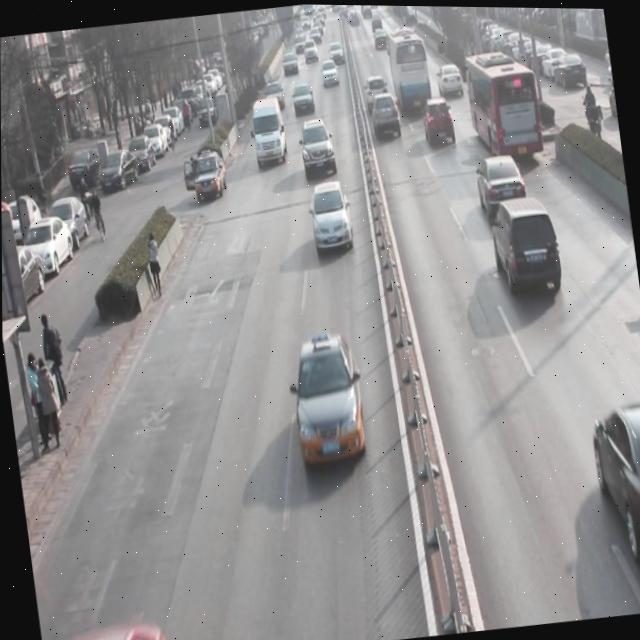car: (286, 331, 372, 475), (584, 383, 640, 577), (487, 189, 566, 304), (472, 148, 530, 223), (303, 174, 356, 256), (297, 115, 339, 180), (421, 93, 457, 148), (191, 148, 227, 202), (41, 629, 169, 640), (363, 70, 392, 117), (370, 91, 400, 133), (435, 60, 465, 99), (291, 80, 315, 116), (262, 75, 285, 111), (318, 59, 340, 91)
truck: (248, 93, 289, 169)
van: (463, 45, 545, 162), (384, 26, 434, 112)
